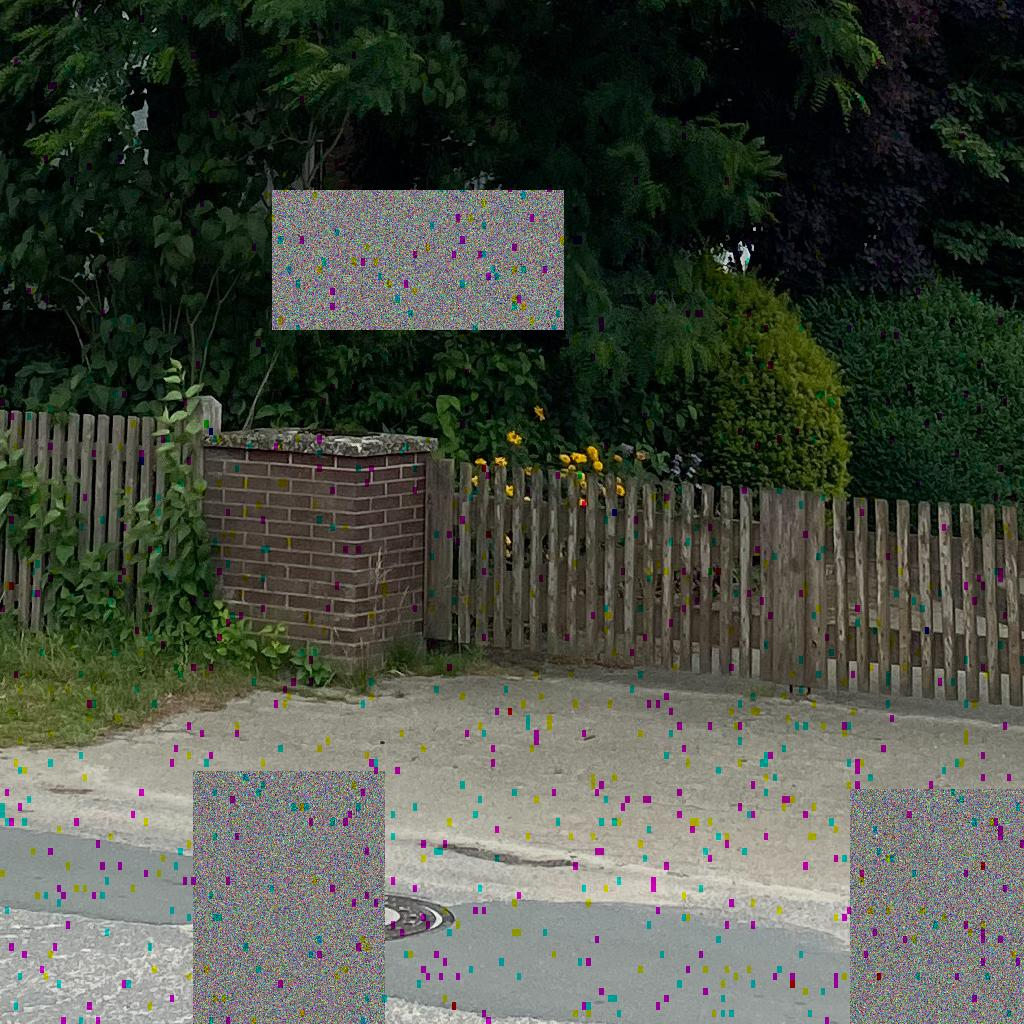tree: (1, 1, 883, 474), (775, 1, 940, 295), (928, 1, 1024, 295)
